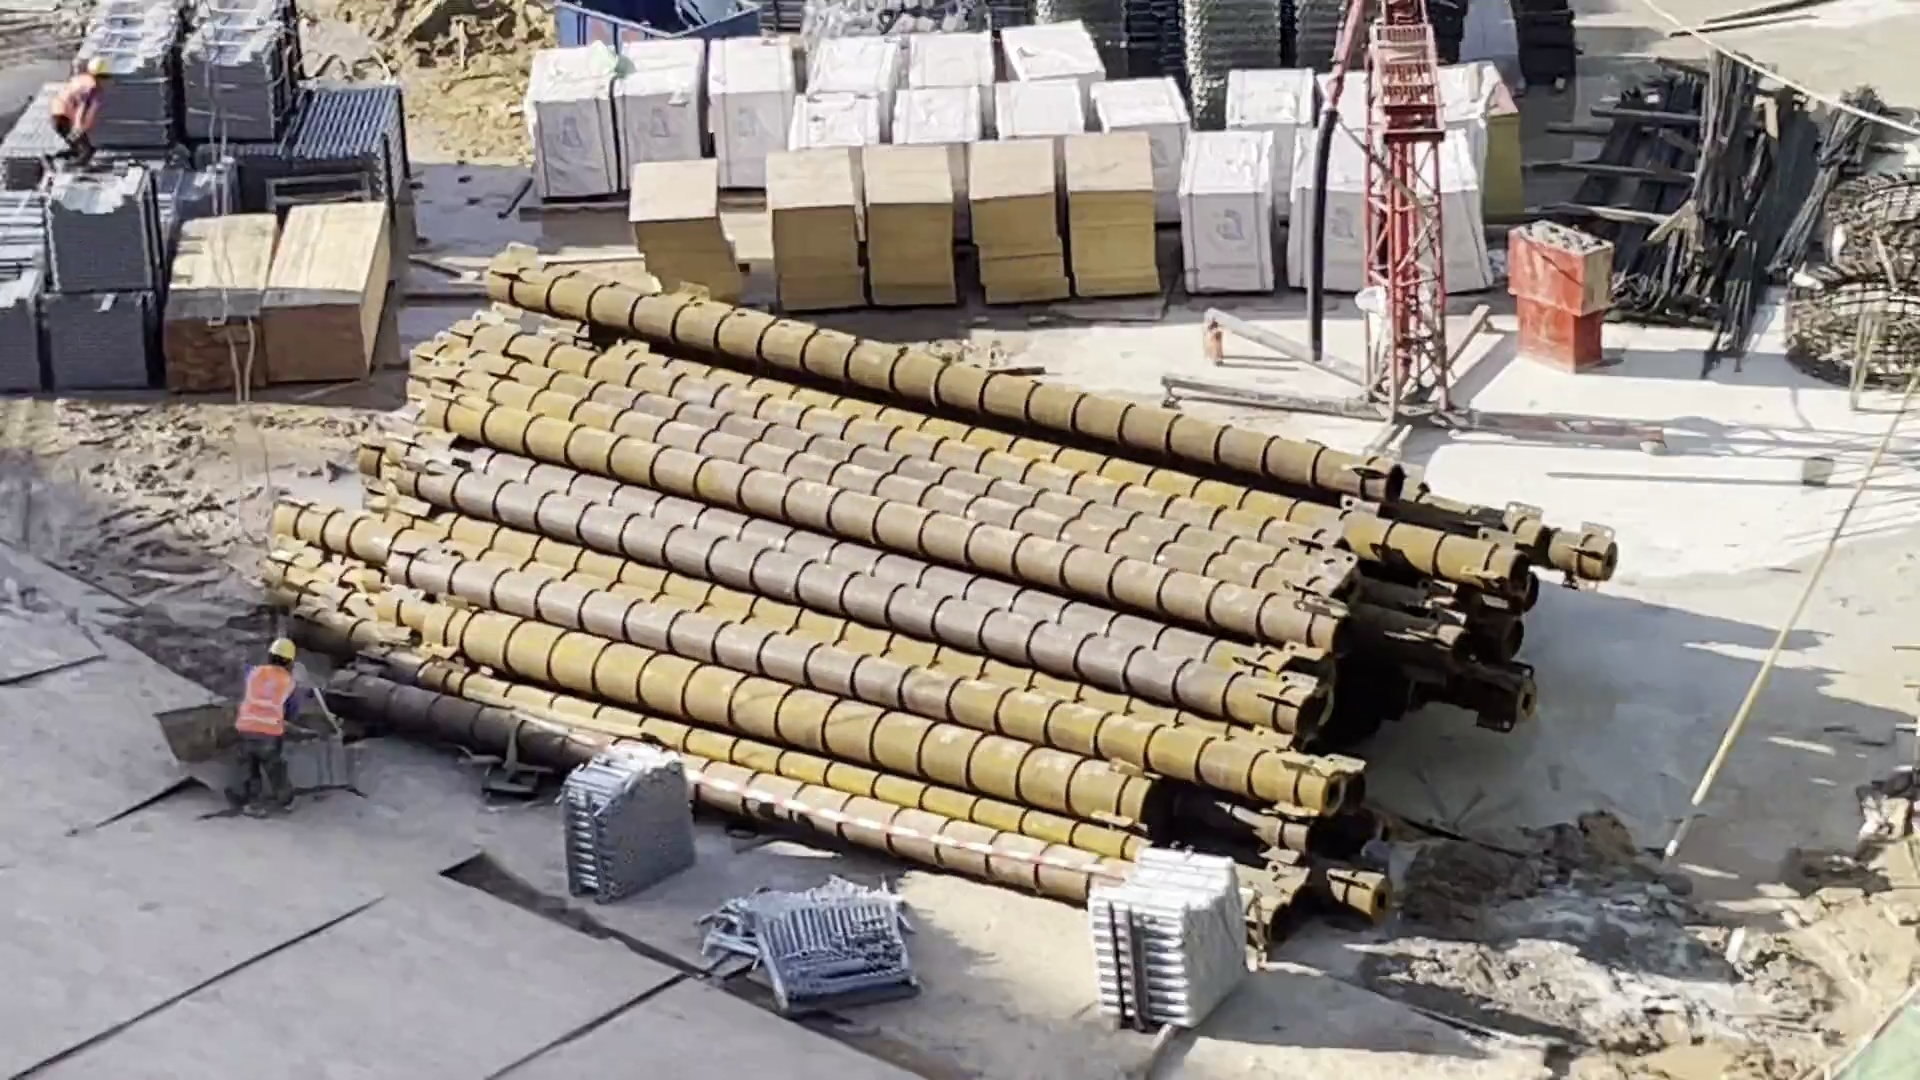board: (952, 113, 1080, 317), (1062, 116, 1184, 313), (758, 130, 869, 322), (623, 149, 758, 304), (859, 124, 962, 309)
helmet: (267, 626, 301, 663)
hopper: (544, 1, 773, 47)
person: (228, 622, 310, 850)
scaffold: (1085, 834, 1265, 1045), (551, 721, 713, 902)
vest: (226, 657, 312, 743)
